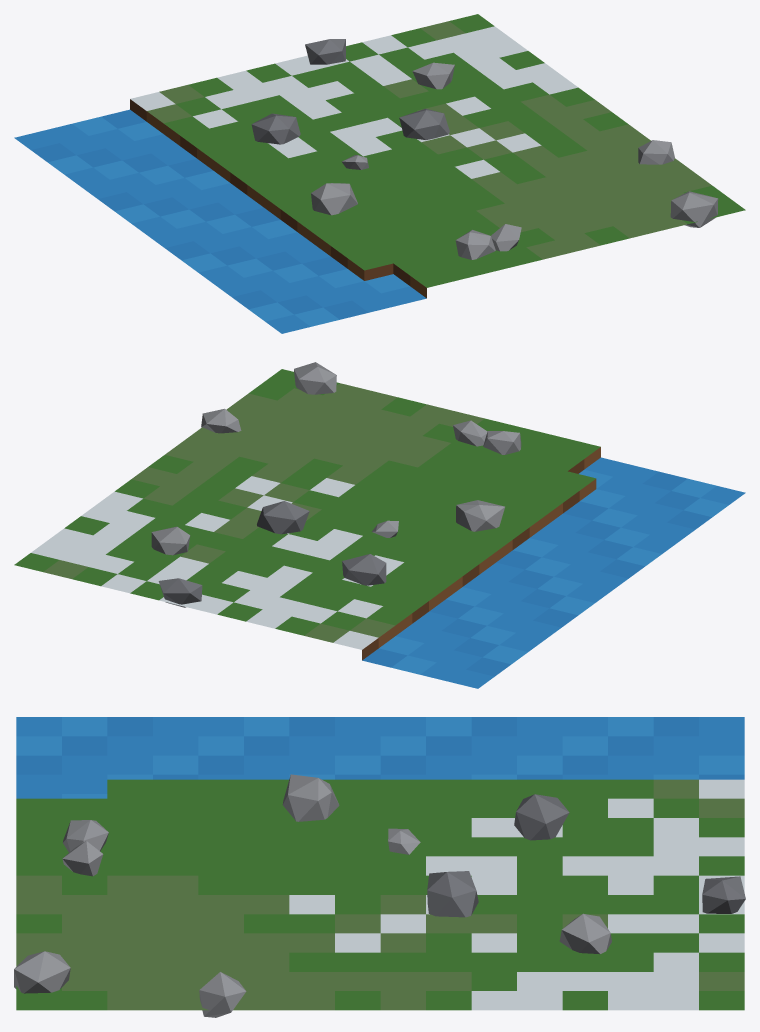
File: chunk_4_2.glb
3 renders of one model, top to bottom at view 1: azimuth 30°, elevation 25°; view 2: azimuth 150°, elevation 25°; view 3: azimuth 270°, elevation 25°, orthographic. The views are drawn at different scales.
Visible parts, largest first — view 1: chunk_4_2; view 2: chunk_4_2; view 3: chunk_4_2.
Part boxes in pixels (left/top/right/bottom): chunk_4_2: left=14, top=14, right=745, bottom=333; chunk_4_2: left=14, top=362, right=745, bottom=688; chunk_4_2: left=14, top=717, right=745, bottom=1017.
Bounding box in the file's own units: 16.08 × 1.3 × 16.08.
